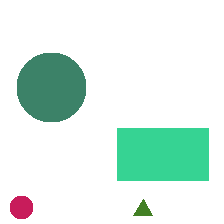circle: (17, 53, 85, 121), (10, 196, 32, 218)
rectangle: (117, 128, 208, 180)
triangle: (133, 199, 152, 215)
